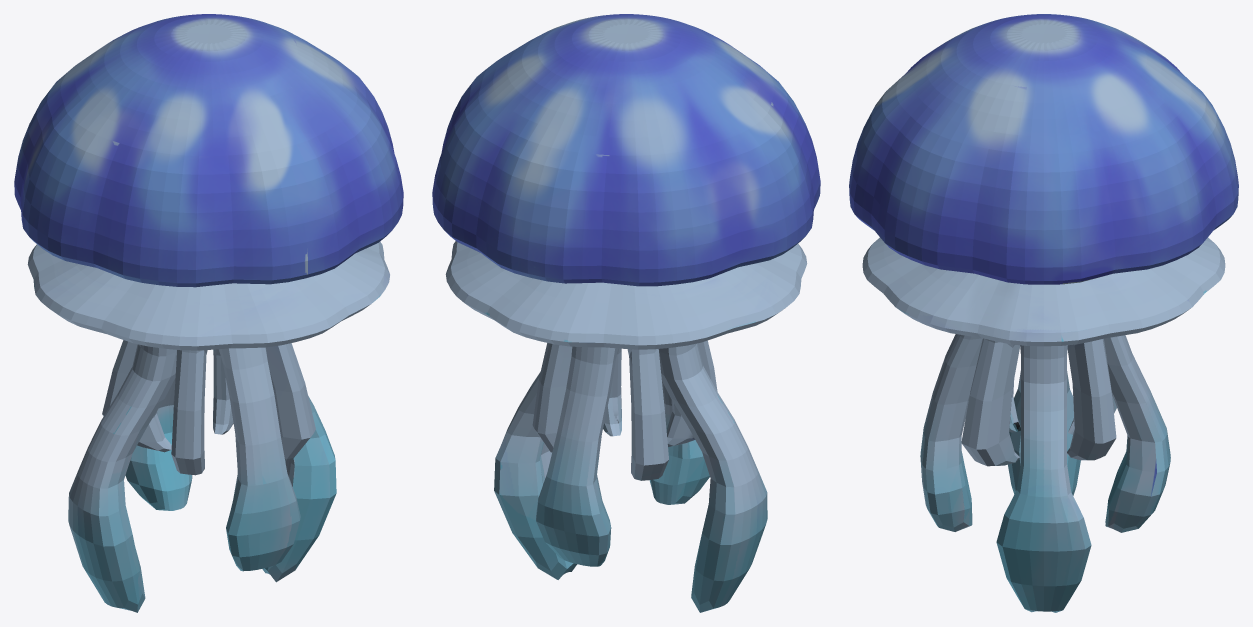
File: FloatingMushroom.fbx
The picture shows the model from 3 angles, left to right: view 1: azimuth 30°, elevation 25°; view 2: azimuth 150°, elevation 25°; view 3: azimuth 270°, elevation 25°; orthographic projection.
Parts seen in each view (by area): view 1: Sphere; view 2: Sphere; view 3: Sphere.
Boxes of the visible parts, left/top/right/bottom form: Sphere: left=14, top=14, right=403, bottom=612; Sphere: left=432, top=14, right=820, bottom=612; Sphere: left=849, top=14, right=1238, bottom=612.
Size of the model in its own units: 208 by 324 by 208.
